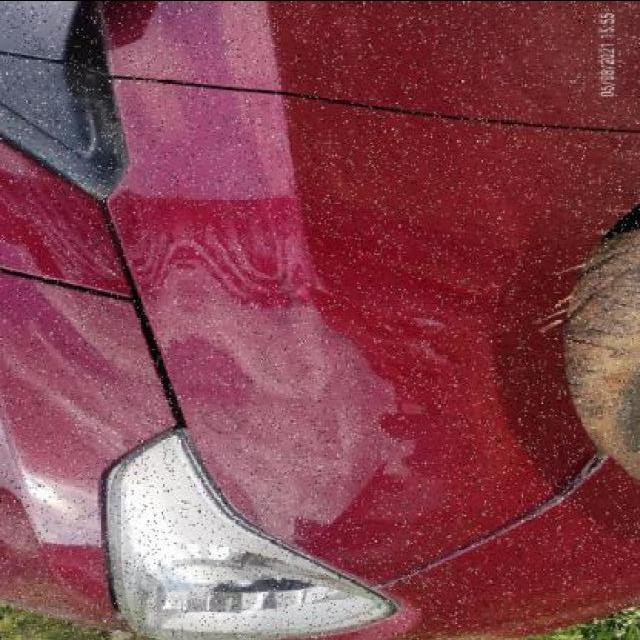fender-dent: (166, 98, 640, 520)
